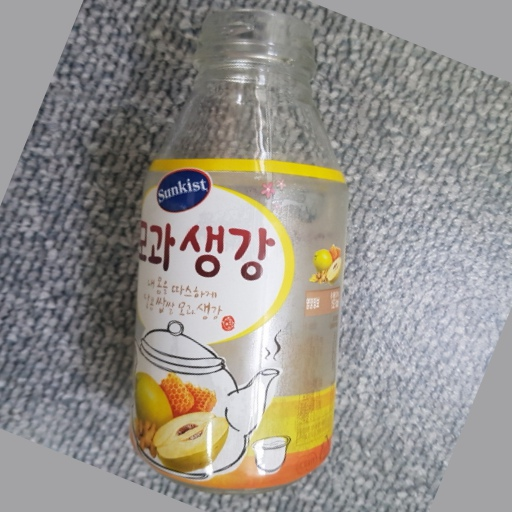Glass_4: (127, 10, 348, 497)
